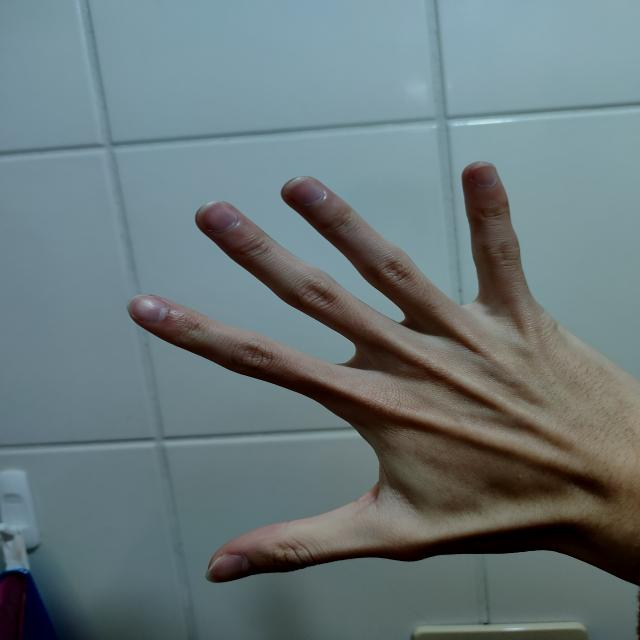no_glove: (122, 141, 640, 605)
